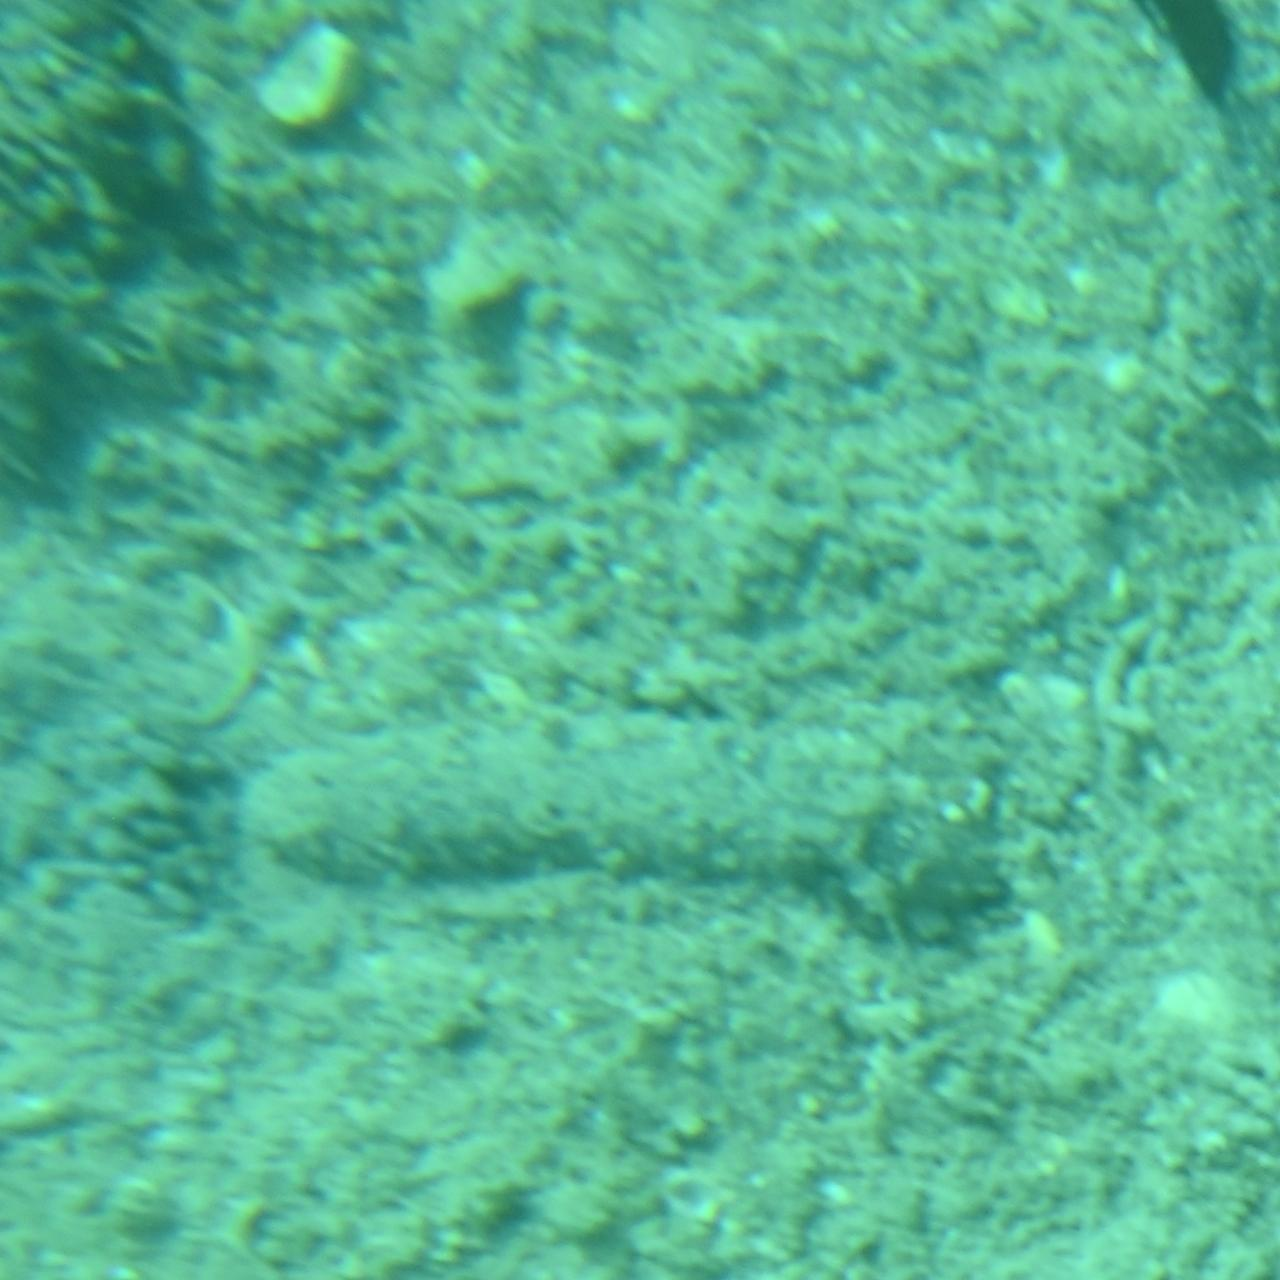Holothuria tubulosa: (200, 715, 913, 893), (0, 0, 188, 509), (1101, 1, 1280, 519)
